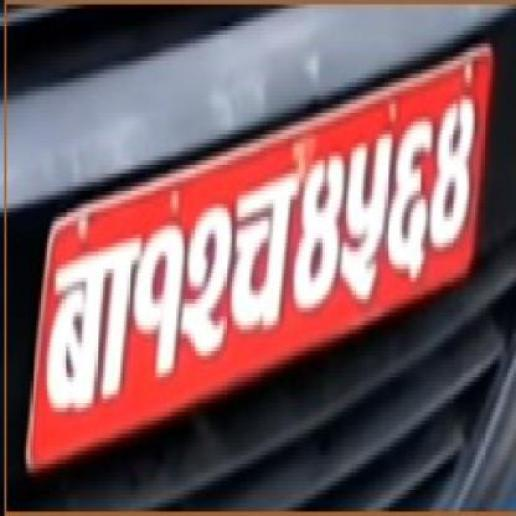1: (134, 226, 181, 391)
2: (179, 200, 232, 360)
4: (293, 148, 344, 316), (431, 92, 478, 257)
5: (344, 130, 390, 308)
6: (387, 104, 437, 287)
ba: (43, 234, 138, 417)
cha: (232, 165, 299, 342)
